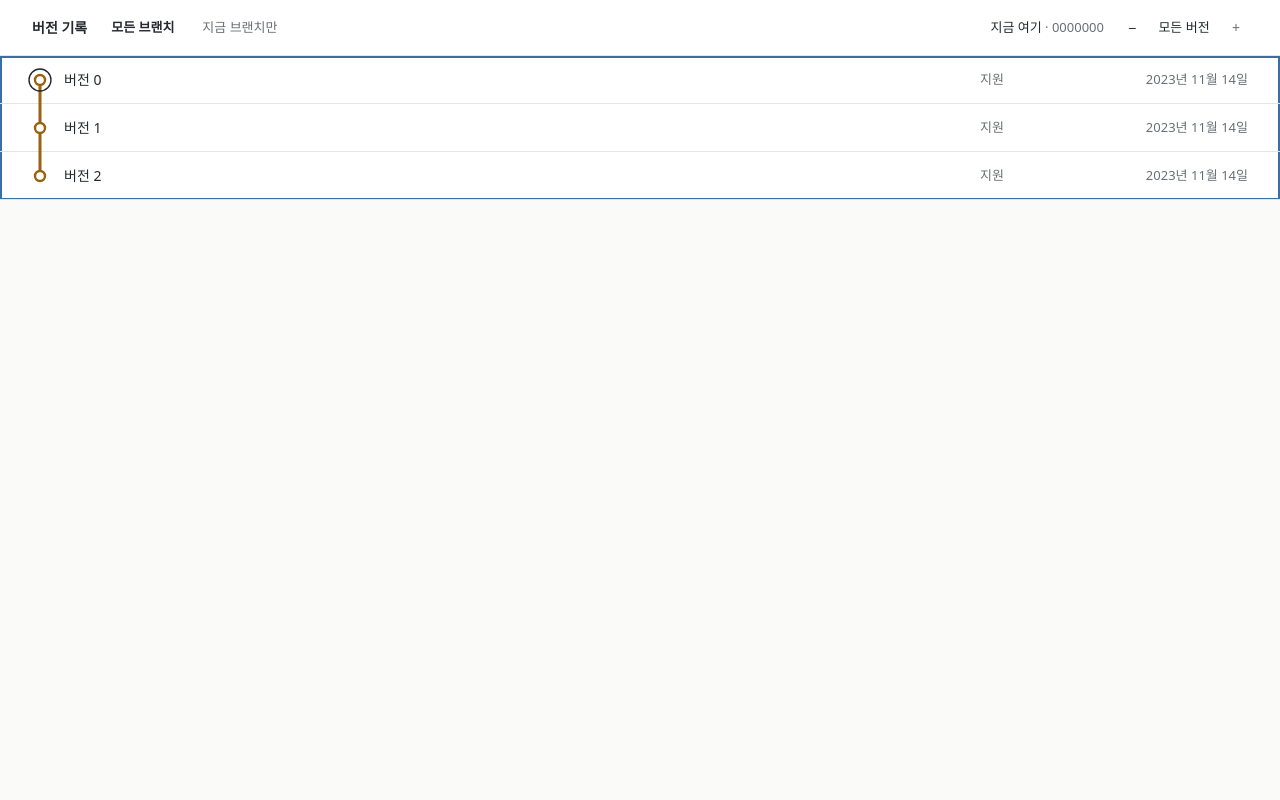
Test: 역 메뉴 › 클립보드가 없으면 옛 방법으로, 그것도 안 되면 알린다
Press ArrowDown in the list, box [0,56,1279,200]
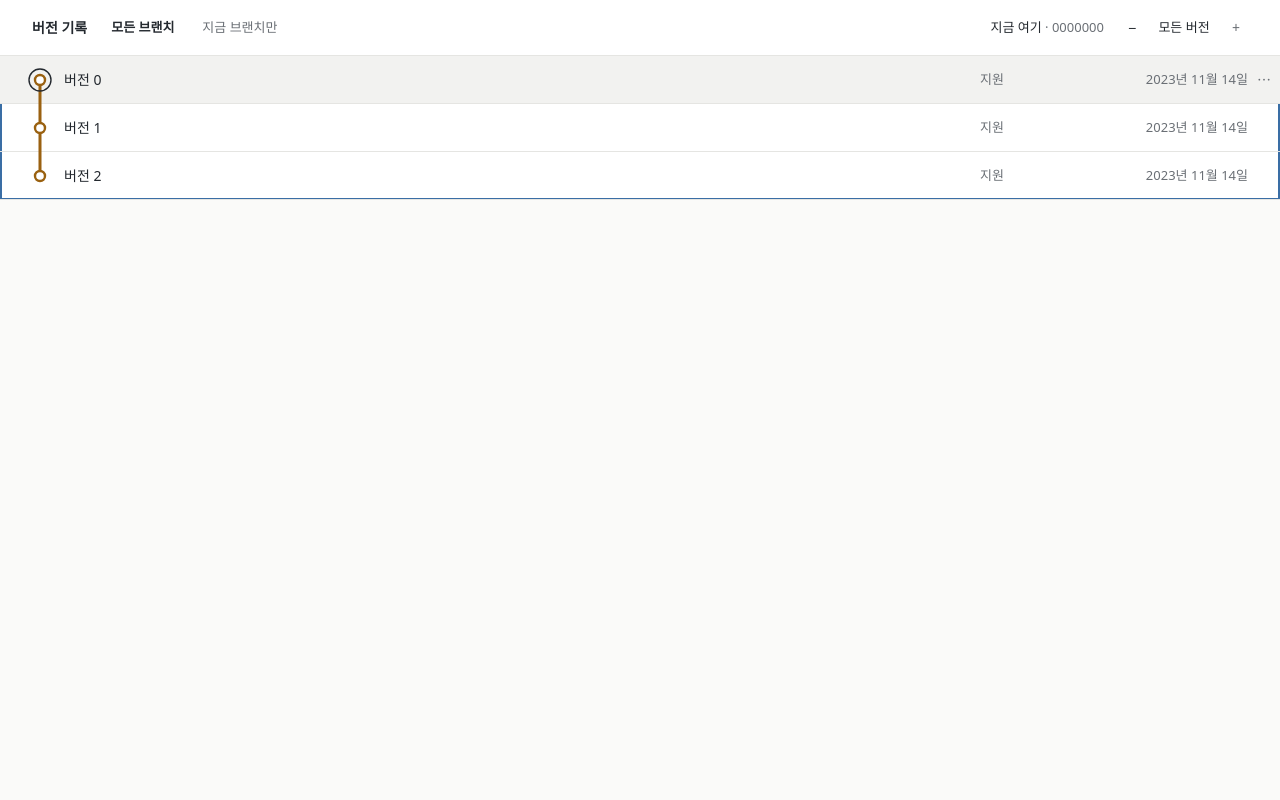
Press Enter in the list, box [0,56,1279,200]
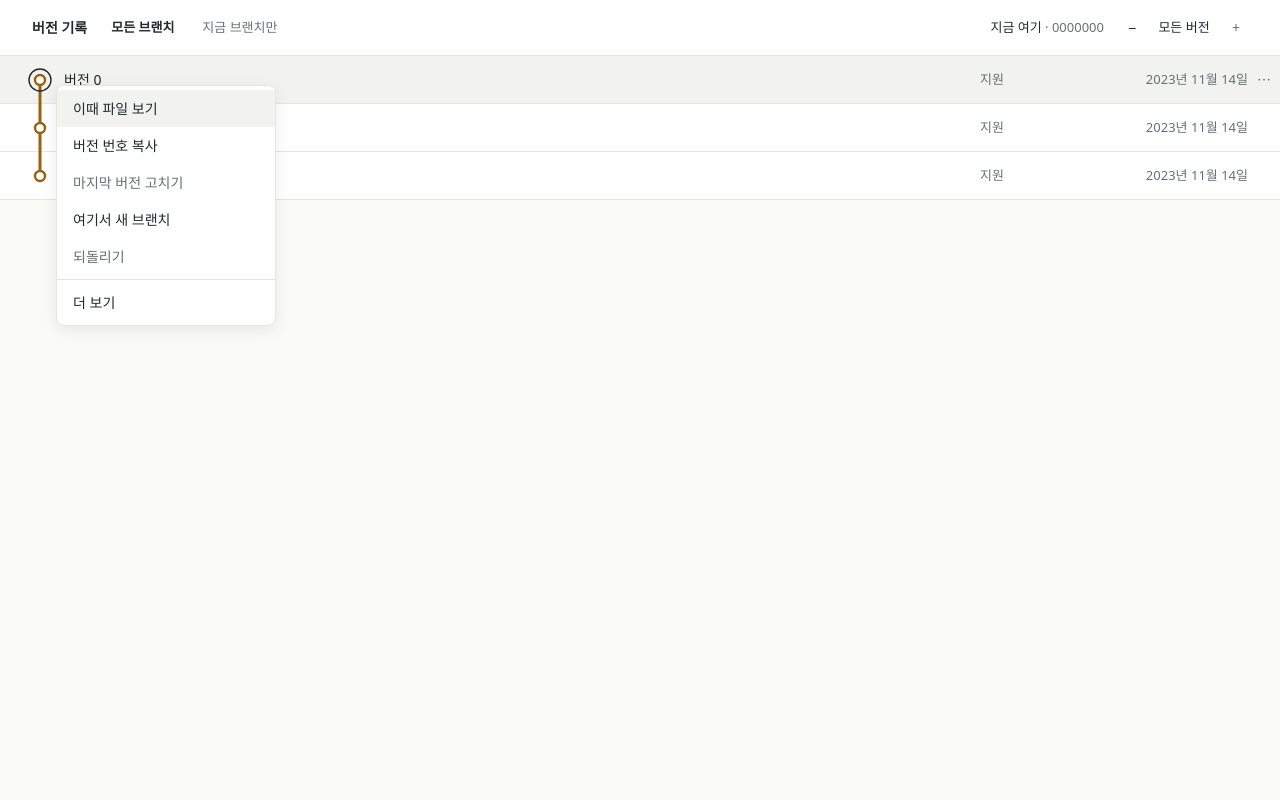
// user-event는 클립보드를 제 것으로 바꾸므로 눌림만 보낸다.
Click the menu item "버전 번호 복사" at [115, 146], box [73,136,158,155]
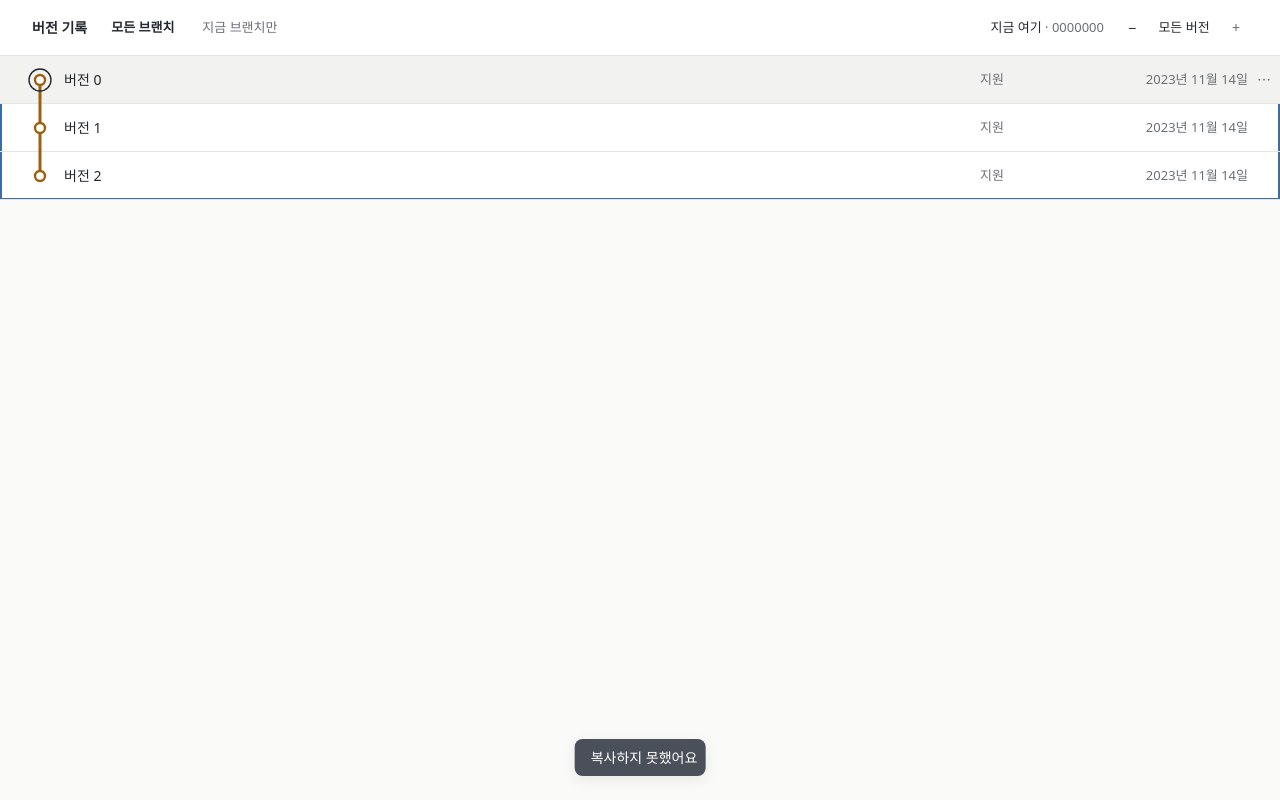
Check: the text "복사하지 못했어요" is shown, box [591,747,697,768]
